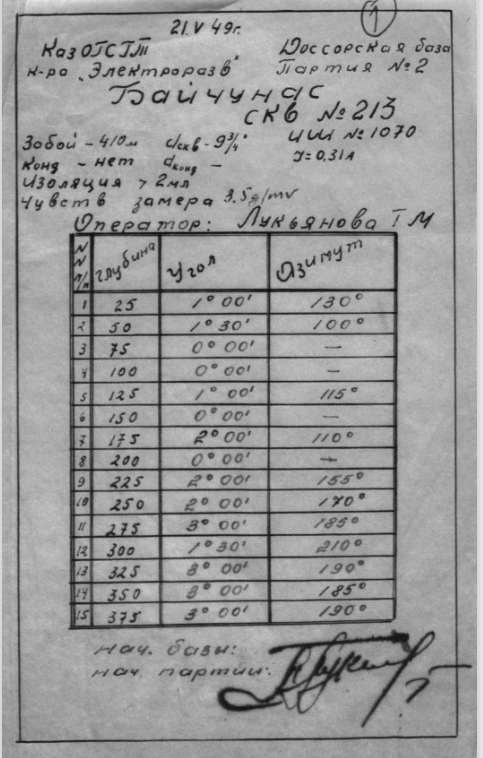Bordered: (66, 234, 401, 631)
